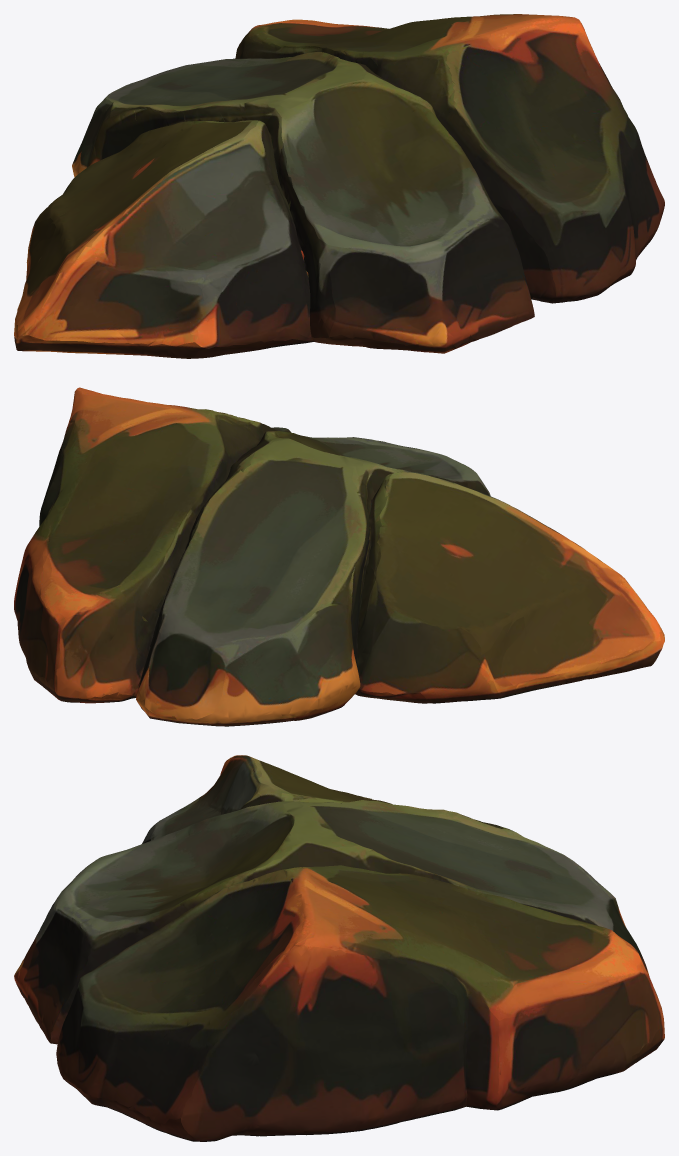
File: item_lava_scale.glb
The picture shows the model from 3 angles, top to bottom: view 1: azimuth 30°, elevation 25°; view 2: azimuth 150°, elevation 25°; view 3: azimuth 270°, elevation 25°; orthographic projection. The views are drawn at different scales.
Parts seen in each view (by area): view 1: item_lava_scale; view 2: item_lava_scale; view 3: item_lava_scale.
Boxes of the visible parts, x1,y1,x2,y2 form: item_lava_scale: (14,14,664,358); item_lava_scale: (14,387,664,726); item_lava_scale: (14,755,664,1141).
Size of the model in its own units: 0.12 by 0.0329 by 0.1026.
1 material, 1 textured.
